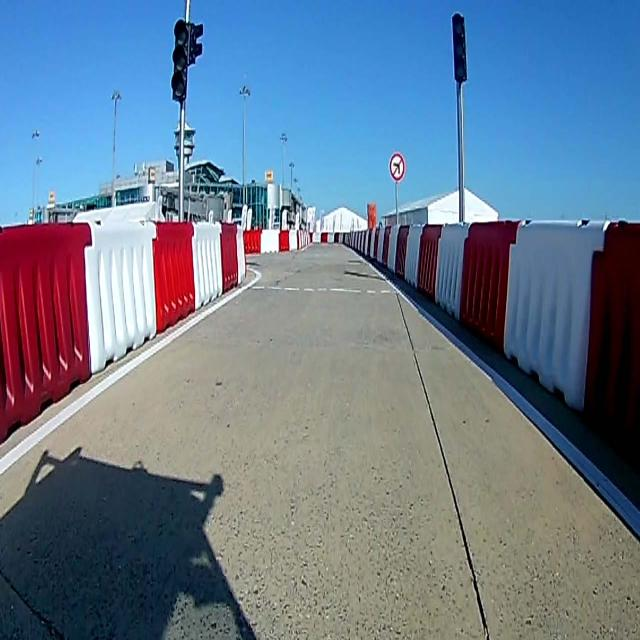soladonulmez: (389, 152, 405, 180)
